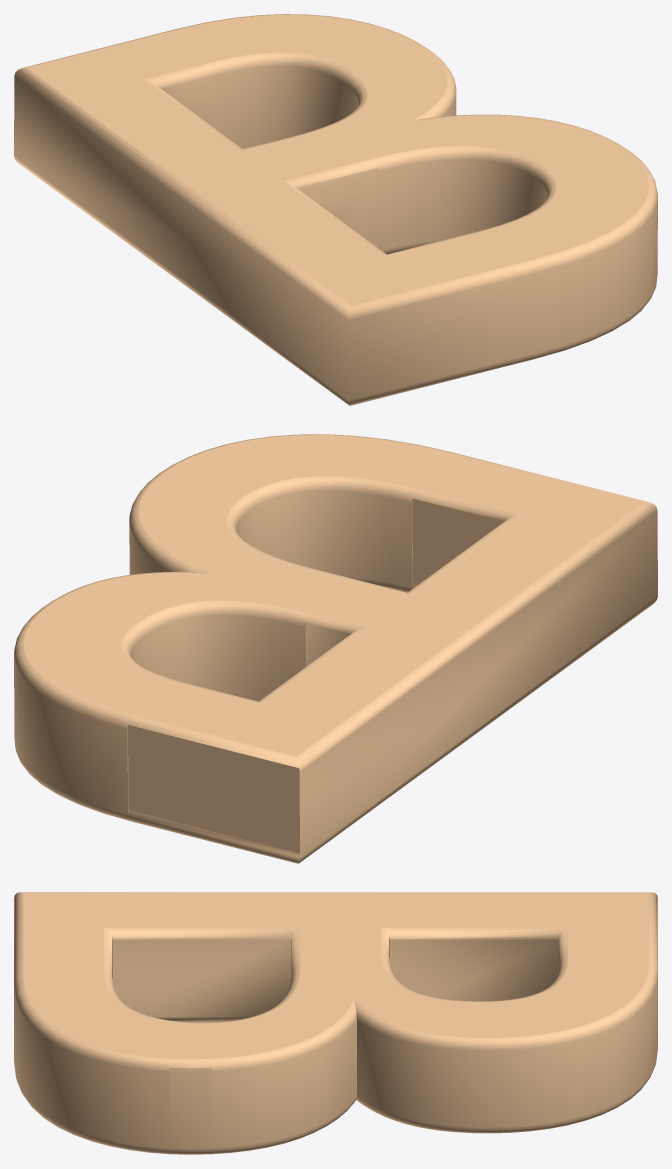
File: ToyObject_196.fbx
3 views of the same model, one above another, from view 1: azimuth 30°, elevation 25°; view 2: azimuth 150°, elevation 25°; view 3: azimuth 270°, elevation 25° (orthographic). The views are drawn at different scales.
Parts seen in each view (by area): view 1: Object.017; view 2: Object.017; view 3: Object.017.
Part boxes in pixels (left/top/right/bottom): Object.017: left=14, top=14, right=657, bottom=405; Object.017: left=14, top=434, right=657, bottom=863; Object.017: left=14, top=892, right=657, bottom=1154.
Bounding box in the file's own units: 0.0938 × 0.0243 × 0.1442.
